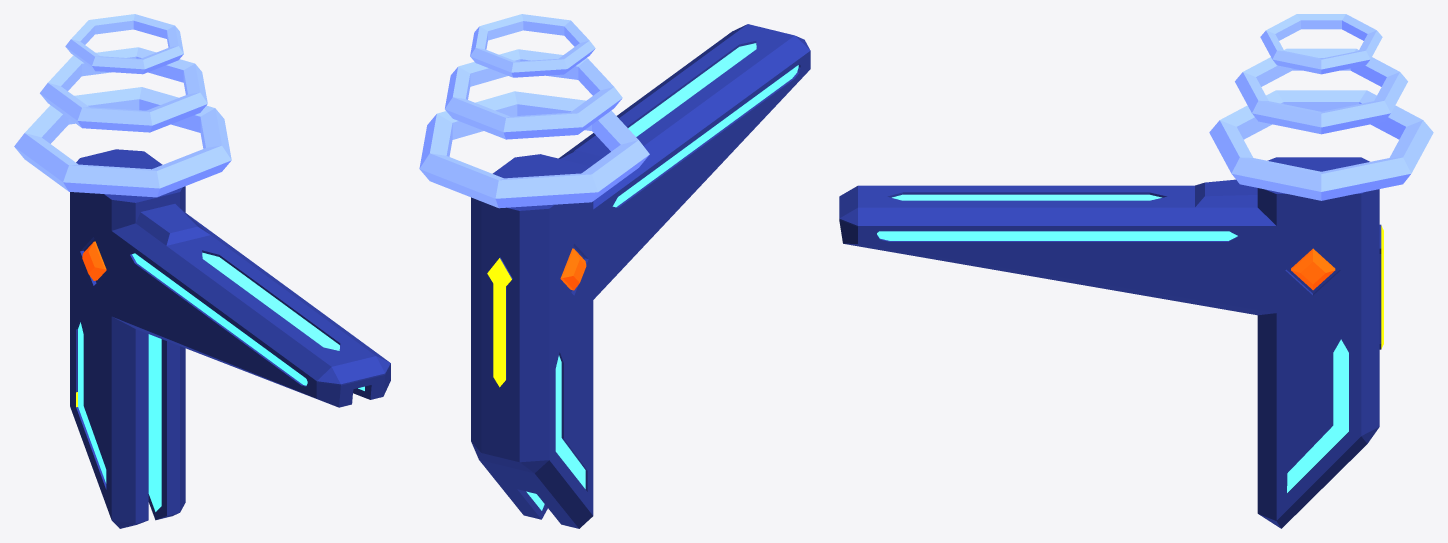
File: LobbyScreenAngle.glb
The picture shows the model from 3 angles, left to right: view 1: azimuth 30°, elevation 25°; view 2: azimuth 150°, elevation 25°; view 3: azimuth 270°, elevation 25°; orthographic projection. The views are drawn at different scales.
Visible parts, largest first — view 1: MainBorder, Torus.008, Torus.006, Torus.007; view 2: MainBorder, Torus.008, Torus.006, Torus.007; view 3: MainBorder, Torus.008, Torus.006, Torus.007.
Boxes of the visible parts, <box> form: MainBorder: <box>70,149,390,528</box>; Torus.008: <box>14,87,231,197</box>; Torus.006: <box>40,47,207,132</box>; Torus.007: <box>65,14,183,74</box>; MainBorder: <box>471,24,810,528</box>; Torus.008: <box>419,91,649,208</box>; Torus.006: <box>445,49,622,139</box>; Torus.007: <box>470,14,595,77</box>; MainBorder: <box>839,157,1383,528</box>; Torus.008: <box>1209,90,1433,200</box>; Torus.006: <box>1235,48,1407,134</box>; Torus.007: <box>1260,14,1382,74</box>.
Bounding box in the file's own units: 0.5562 × 1.35 × 1.51.
